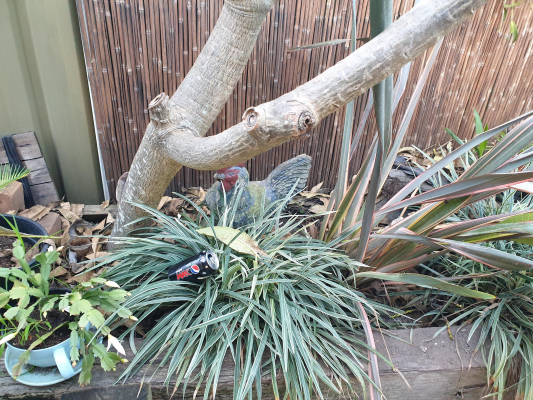Plastic Bottle: (168, 251, 219, 282)
